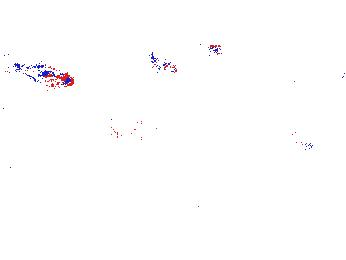X-ray fish: (276, 124, 313, 150), (231, 187, 264, 216)
red belly glassfish: (18, 62, 75, 87), (154, 56, 178, 74), (200, 40, 224, 56)
redtail glassfish: (288, 68, 346, 92), (168, 143, 216, 168)
